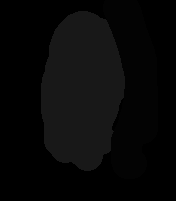fp: (33, 11, 130, 168)
